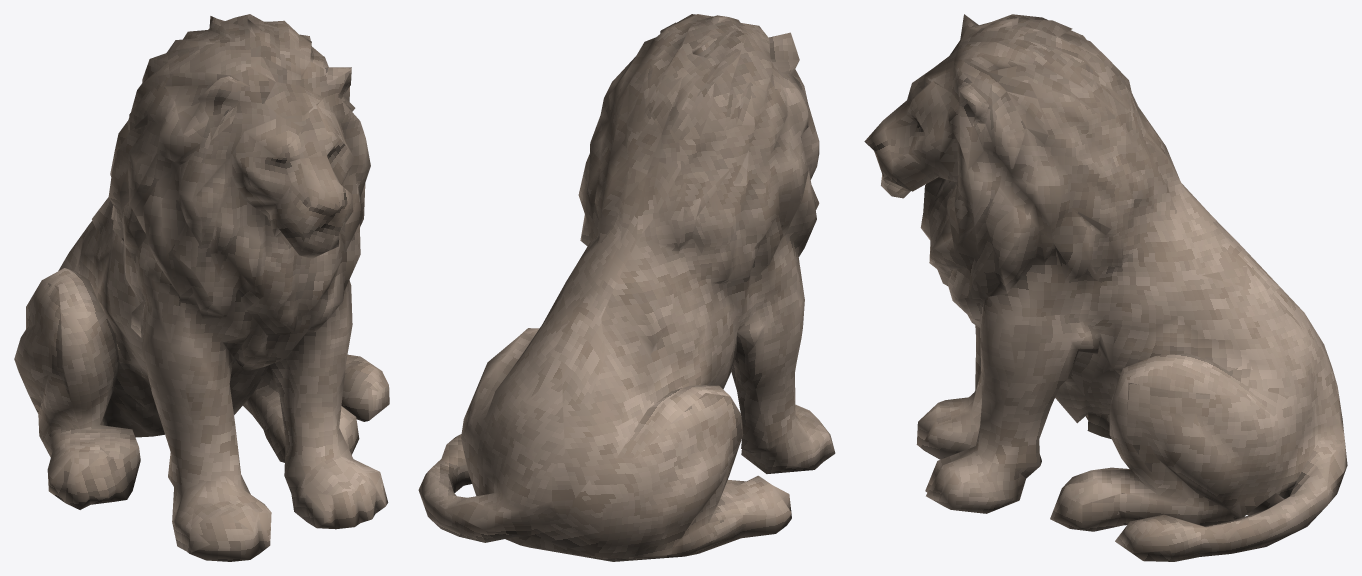
File: pixel-fantasy-standalone-lion-statue.glb
3 views of the same model, side by side, from view 1: azimuth 30°, elevation 25°; view 2: azimuth 150°, elevation 25°; view 3: azimuth 270°, elevation 25° (orthographic). The views are drawn at different scales.
Parts seen in each view (by area): view 1: Standalone lion statue; view 2: Standalone lion statue; view 3: Standalone lion statue.
Boxes of the visible parts, box(x1,y1,x2,y2) form: Standalone lion statue: box(14, 14, 389, 561); Standalone lion statue: box(418, 14, 835, 561); Standalone lion statue: box(864, 14, 1347, 561).
Bounding box in the file's own units: 1.28 × 1.69 × 1.63.
1 material, 1 textured.
